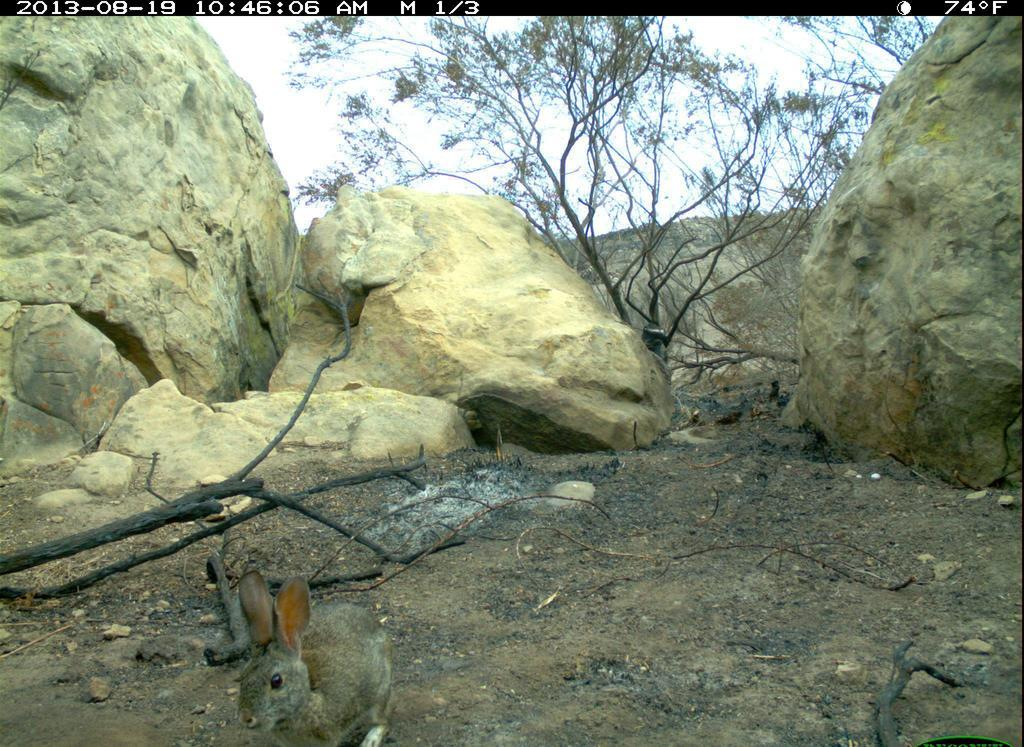rabbit: (228, 570, 406, 747)
